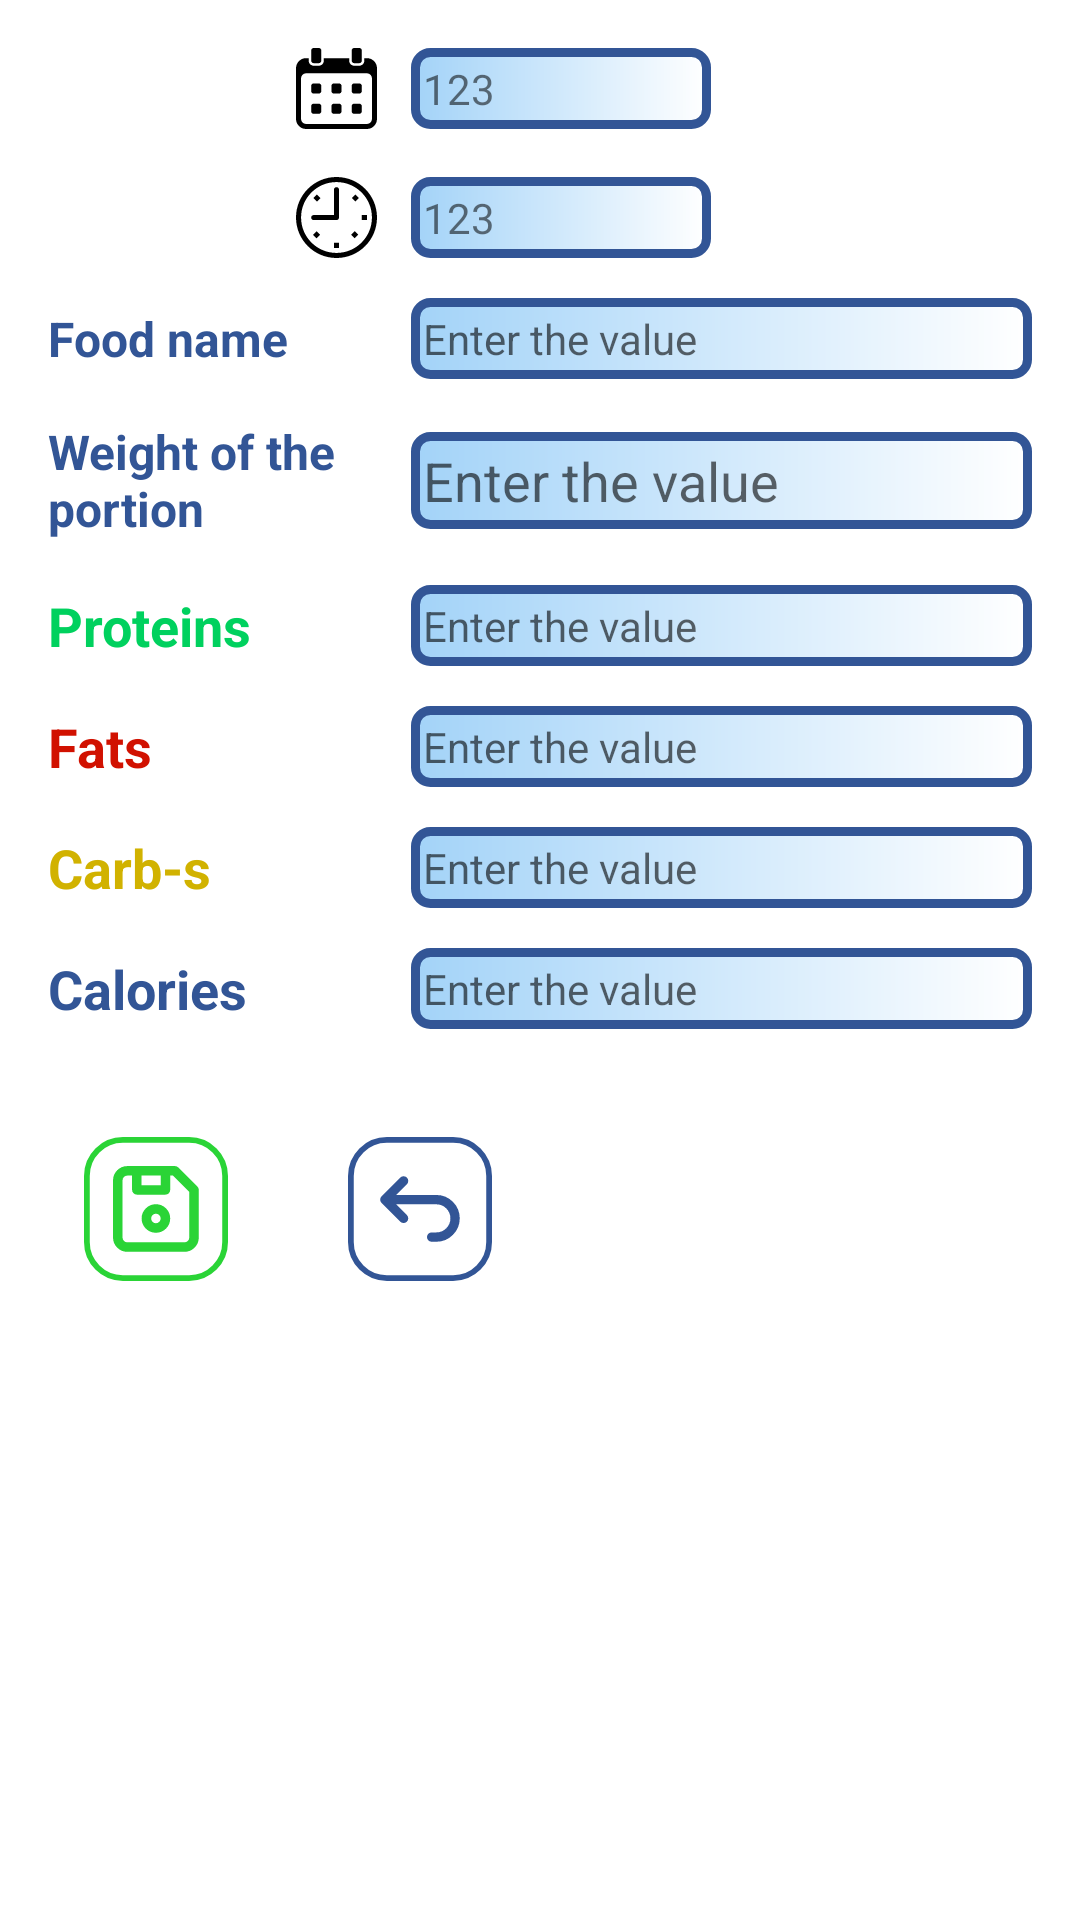

Screen size 1080*1920. Icon name, then its box in pixels as (x1, y1, x2, y2):
calendar: (296, 48, 377, 129)
clock: (296, 177, 377, 258)
return: (348, 1137, 492, 1281)
save: (84, 1137, 228, 1281)
